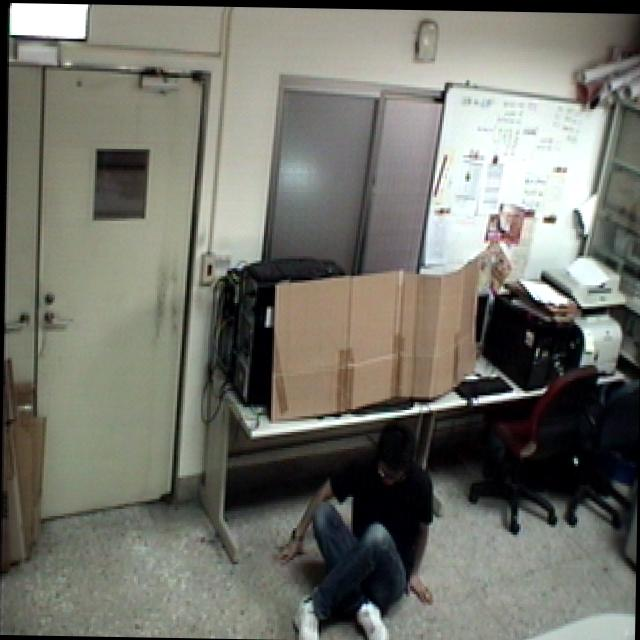sit: (269, 415, 444, 640)
